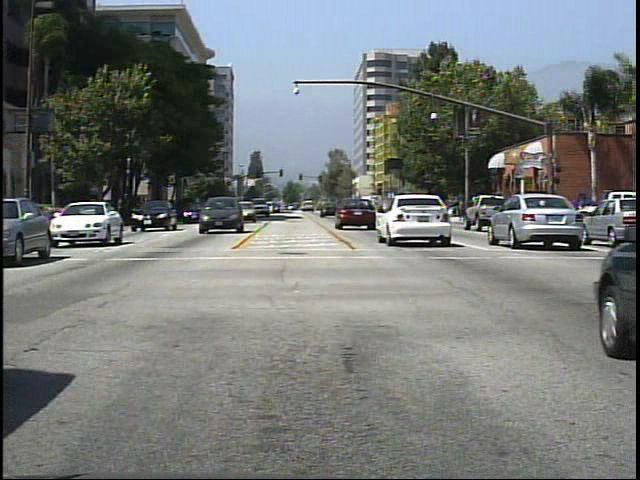person: (530, 193, 549, 228), (493, 189, 511, 224)
